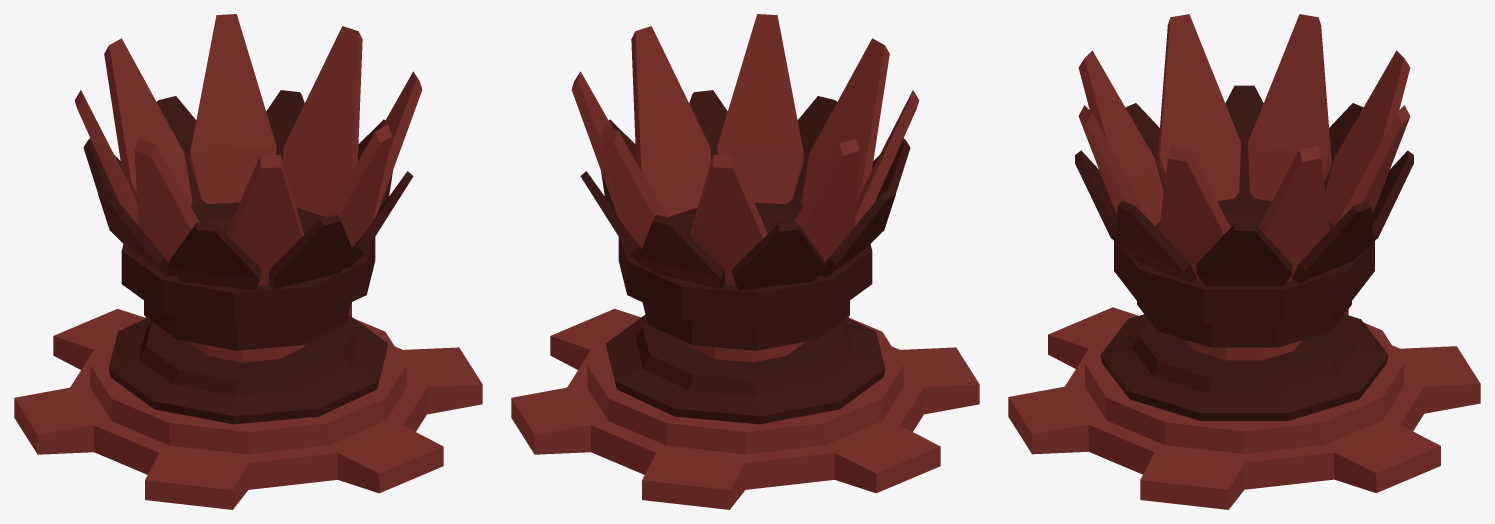
The model's file is Teleporter2.glb.
3 views of the same model, side by side, from view 1: azimuth 30°, elevation 25°; view 2: azimuth 150°, elevation 25°; view 3: azimuth 270°, elevation 25° (orthographic).
Visible parts, largest first — view 1: Teleporter2, Teleporter2_Top; view 2: Teleporter2, Teleporter2_Top; view 3: Teleporter2, Teleporter2_Top.
Part boxes in pixels (x1,y1,x2,y2): Teleporter2: (14, 202, 482, 509); Teleporter2_Top: (74, 14, 422, 290); Teleporter2: (511, 202, 979, 509); Teleporter2_Top: (571, 14, 919, 290); Teleporter2: (1008, 198, 1480, 509); Teleporter2_Top: (1075, 14, 1413, 286).
Size of the model in its own units: 0.9224 by 0.7161 by 0.9224.
